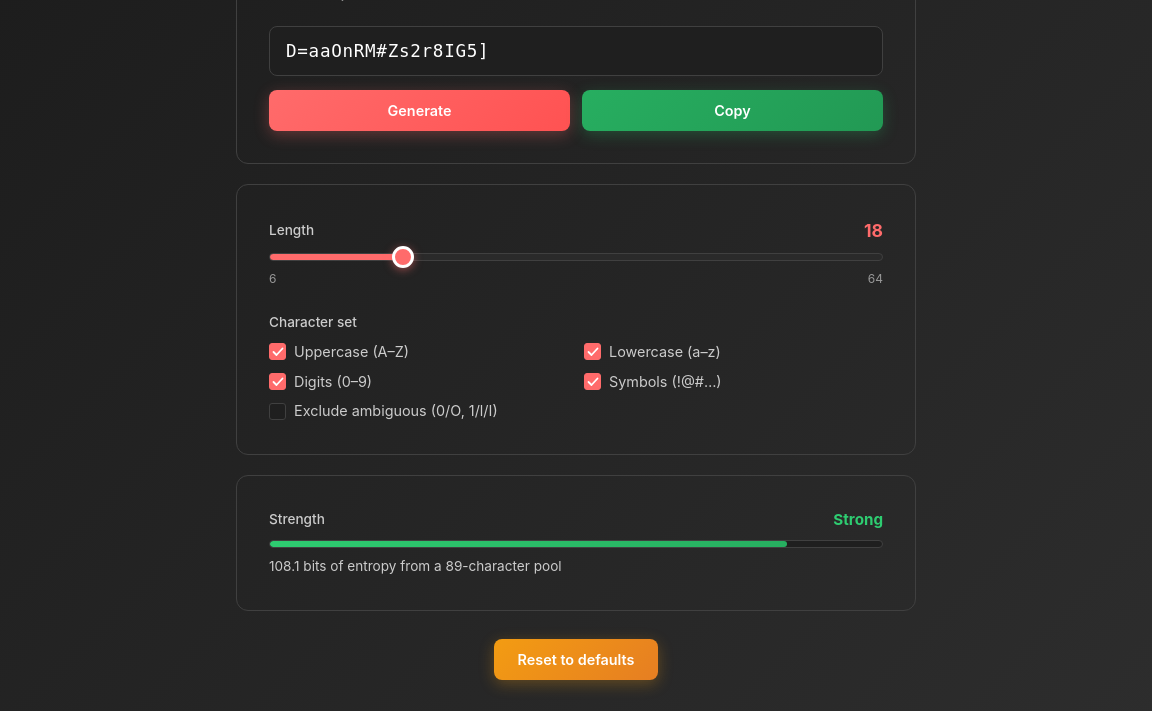
Test: <PasswordGenerator /> (page) › does not allow unchecking the last enabled class (MAJ-3 prevention)
(page scrolled)
Note: Default has upper, lower, digits, symbols enabled. Uncheck three.
Click the checkbox labelled "Uppercase (A–Z)". click: click(339, 352)
box: x1=269 y1=343 x2=409 y2=360
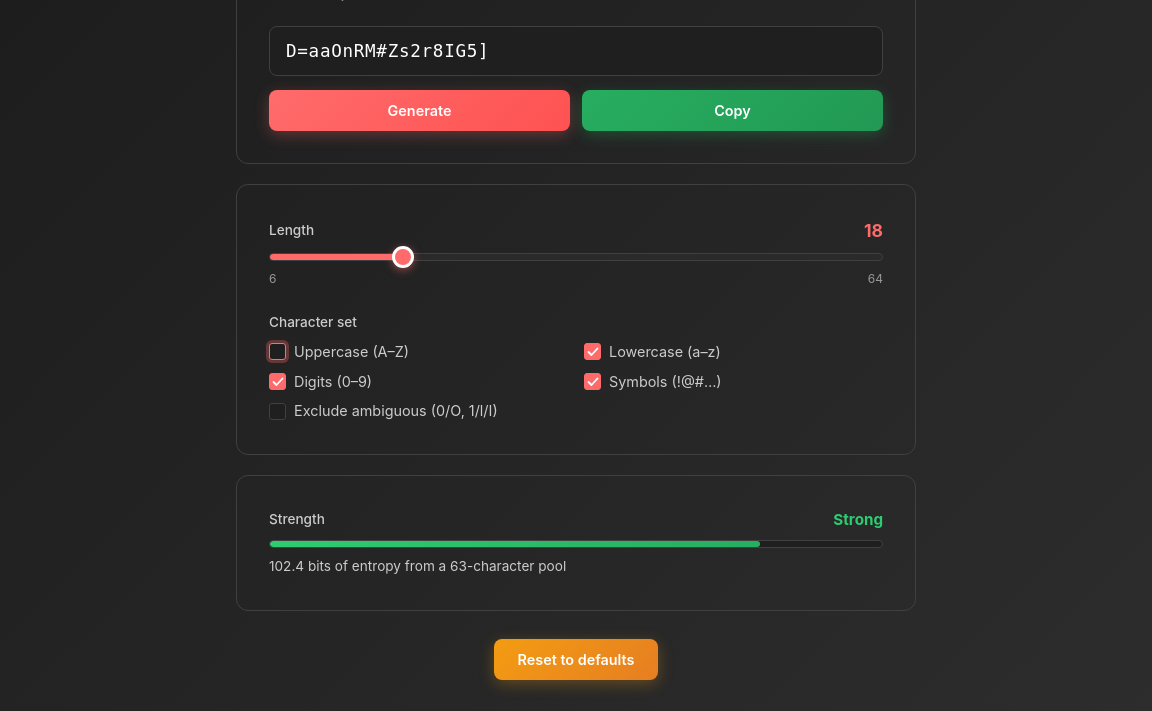
Click the checkbox labelled "Lowercase (a–z)". click: click(652, 352)
box: x1=584 y1=343 x2=721 y2=360
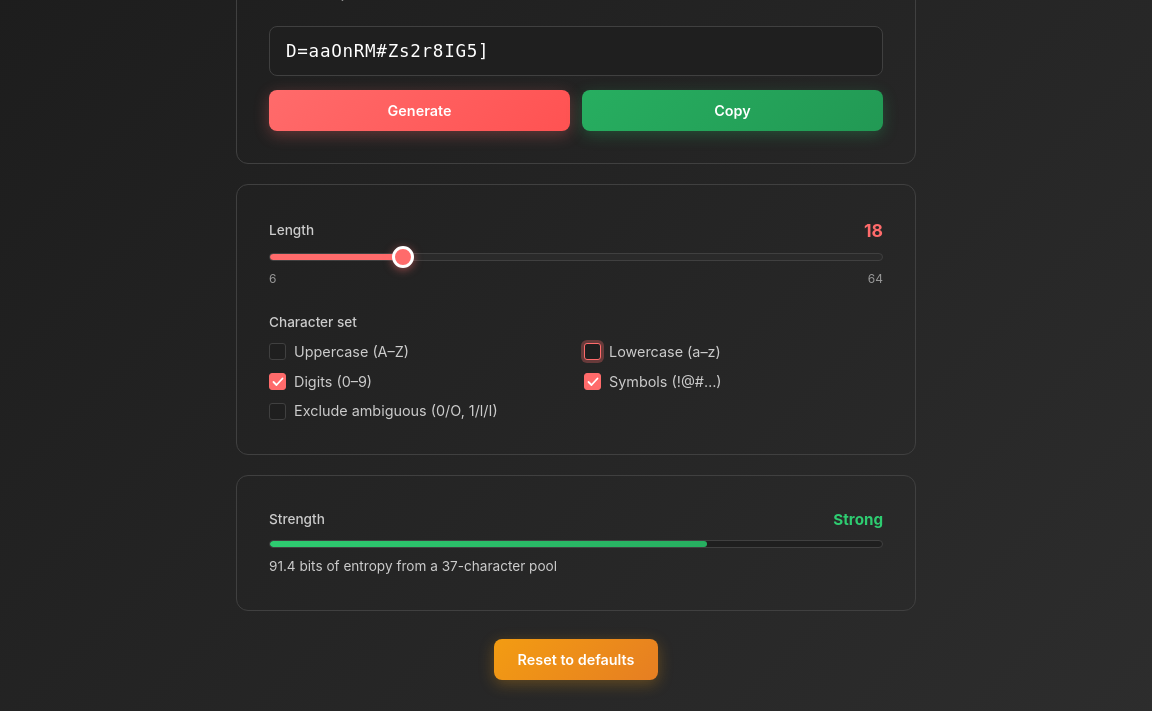
Click the checkbox labelled "Symbols (!@#…)". click: click(653, 381)
box: x1=584 y1=373 x2=722 y2=390
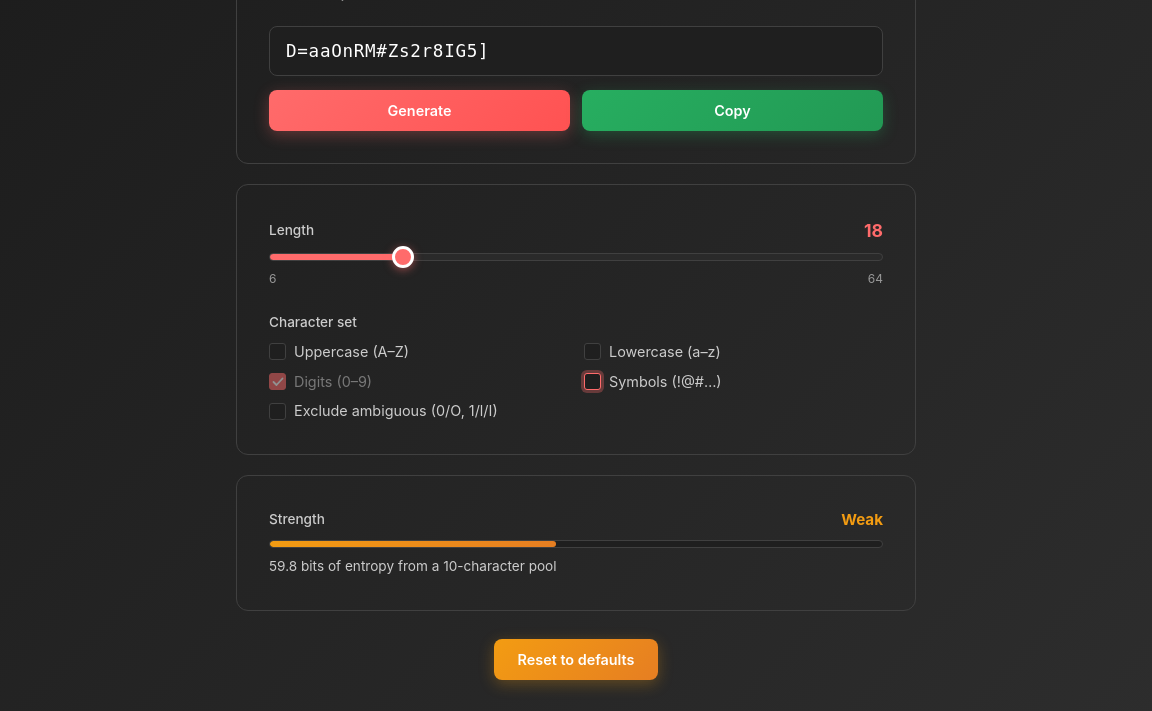
Expected: the button "Generate" is enabled, x1=269 y1=90 x2=570 y2=131
Expected: the checkbox labelled "Digits (0–9)" is disabled, x1=269 y1=373 x2=372 y2=390
